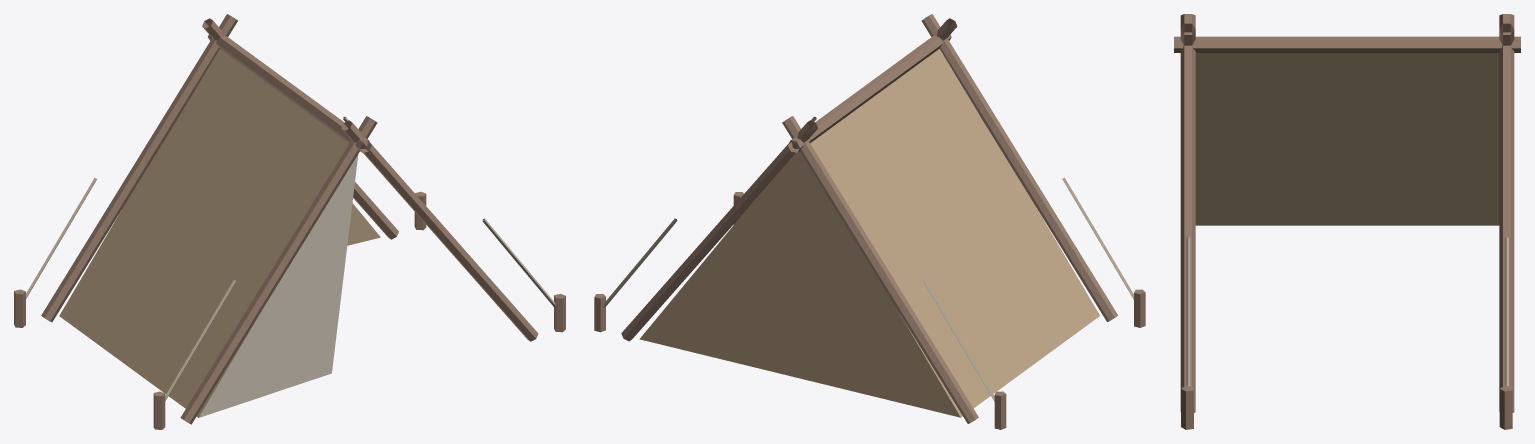
The picture shows the model from 3 angles, left to right: view 1: azimuth 30°, elevation 25°; view 2: azimuth 150°, elevation 25°; view 3: azimuth 270°, elevation 25°; orthographic projection. The views are drawn at different scales.
Parts seen in each view (by area): view 1: C04; view 2: C04; view 3: C04.
Part boxes in pixels (x1,y1,x2,y2): C04: [14, 14, 565, 429]; C04: [594, 14, 1145, 429]; C04: [1174, 14, 1520, 429].
Size of the model in its own units: 2.3 by 1.4 by 1.47.
